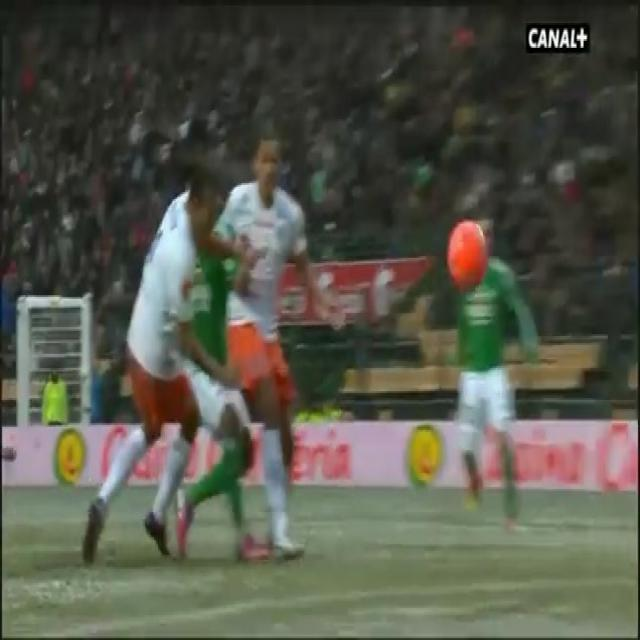ball: (446, 219, 496, 297)
player: (86, 102, 217, 554), (418, 288, 563, 532), (243, 123, 323, 551), (189, 176, 268, 581)
